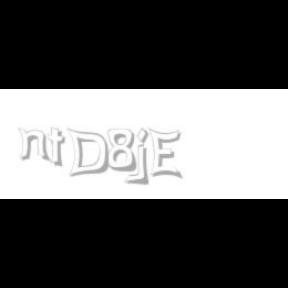8: (108, 128, 136, 172)
D: (66, 128, 110, 178)
E: (148, 128, 181, 180)
j: (134, 128, 162, 186)
n: (17, 128, 51, 162)
t: (48, 128, 70, 168)
